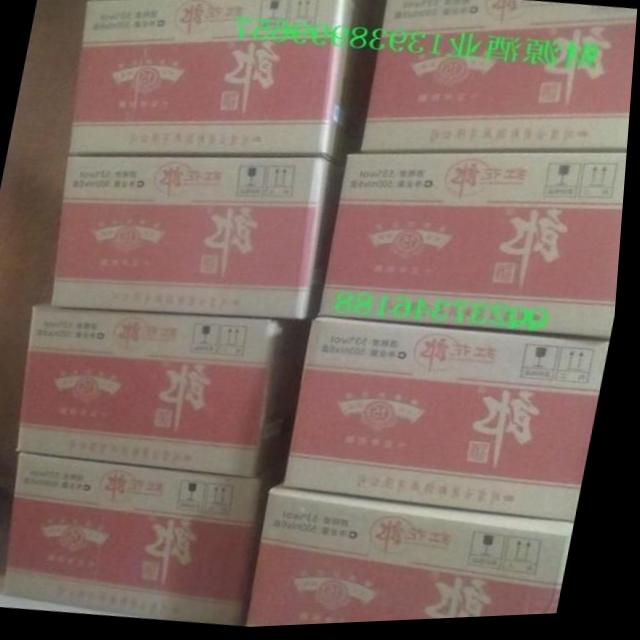box: (289, 320, 615, 527), (324, 156, 630, 344), (69, 0, 379, 167), (24, 302, 311, 481), (53, 156, 347, 322), (10, 453, 287, 625), (254, 487, 581, 630), (360, 0, 638, 156), (356, 0, 383, 19)
